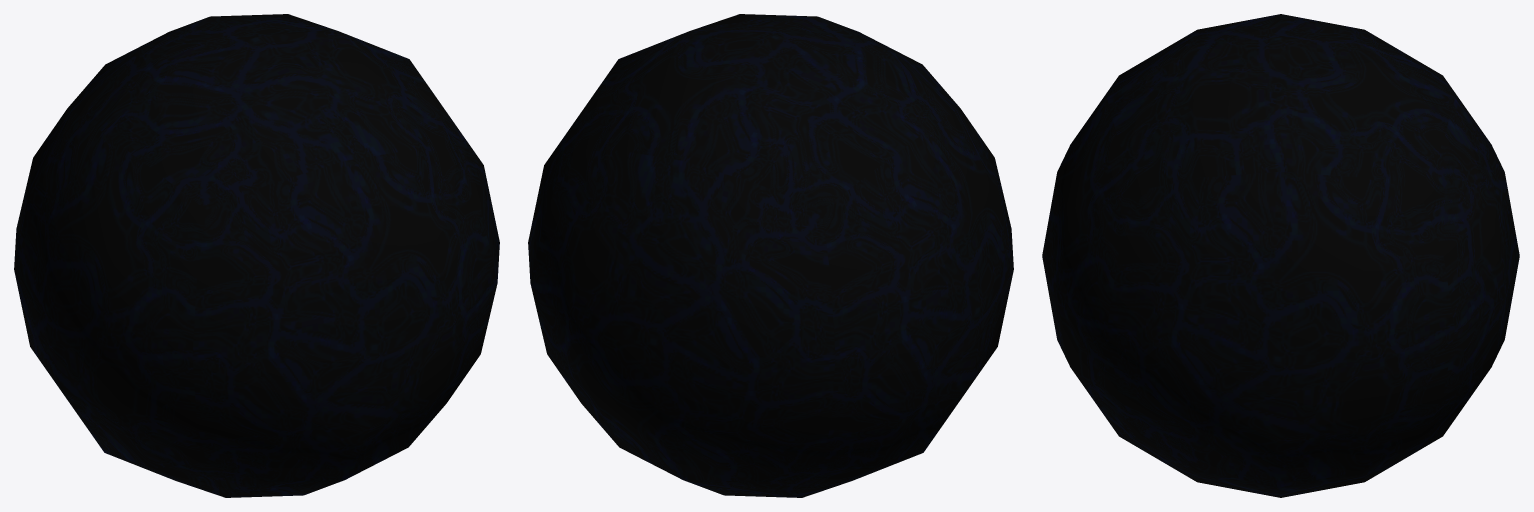
The model's file is pt_droideka_shield_l0.fbx.
The picture shows the model from 3 angles, left to right: view 1: azimuth 30°, elevation 25°; view 2: azimuth 150°, elevation 25°; view 3: azimuth 270°, elevation 25°; orthographic projection.
Parts seen in each view (by area): view 1: mesh_node; view 2: mesh_node; view 3: mesh_node.
Part boxes in pixels (box(x1,y1,x2,y2)): mesh_node: box(14, 14, 499, 497); mesh_node: box(528, 14, 1013, 497); mesh_node: box(1042, 14, 1519, 497).
Size of the model in its own units: 1.62 by 1.62 by 1.62.
